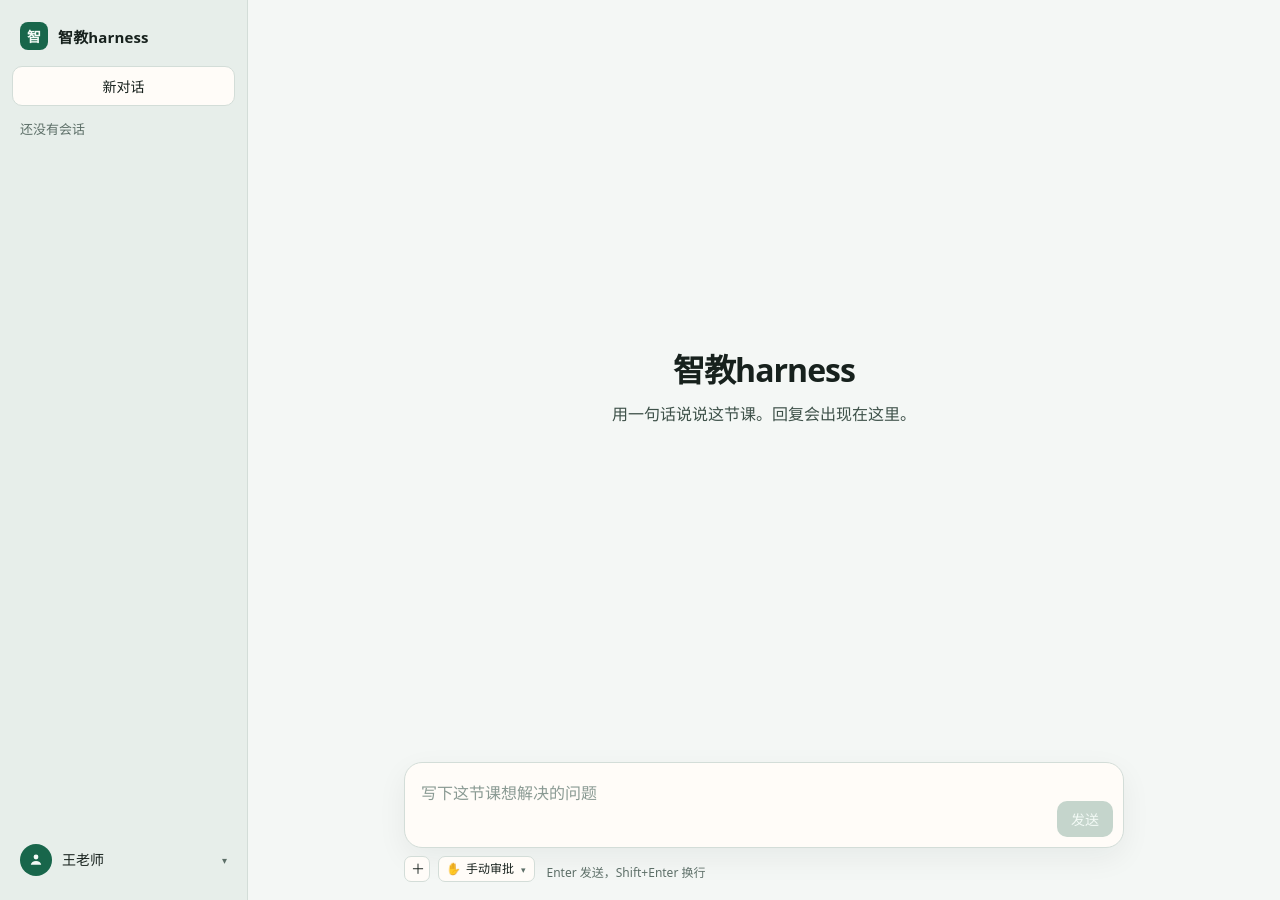
Scenario: 工作台 › 失败时保留已成功的回复，并给出可重试说明
Expected: the button "发送" is shown, x1=1057 y1=801 x2=1113 y2=837
Type "这节课怎么讲通分" into the text box named "消息". click: (735, 805)
box: x1=421 y1=773 x2=1049 y2=837
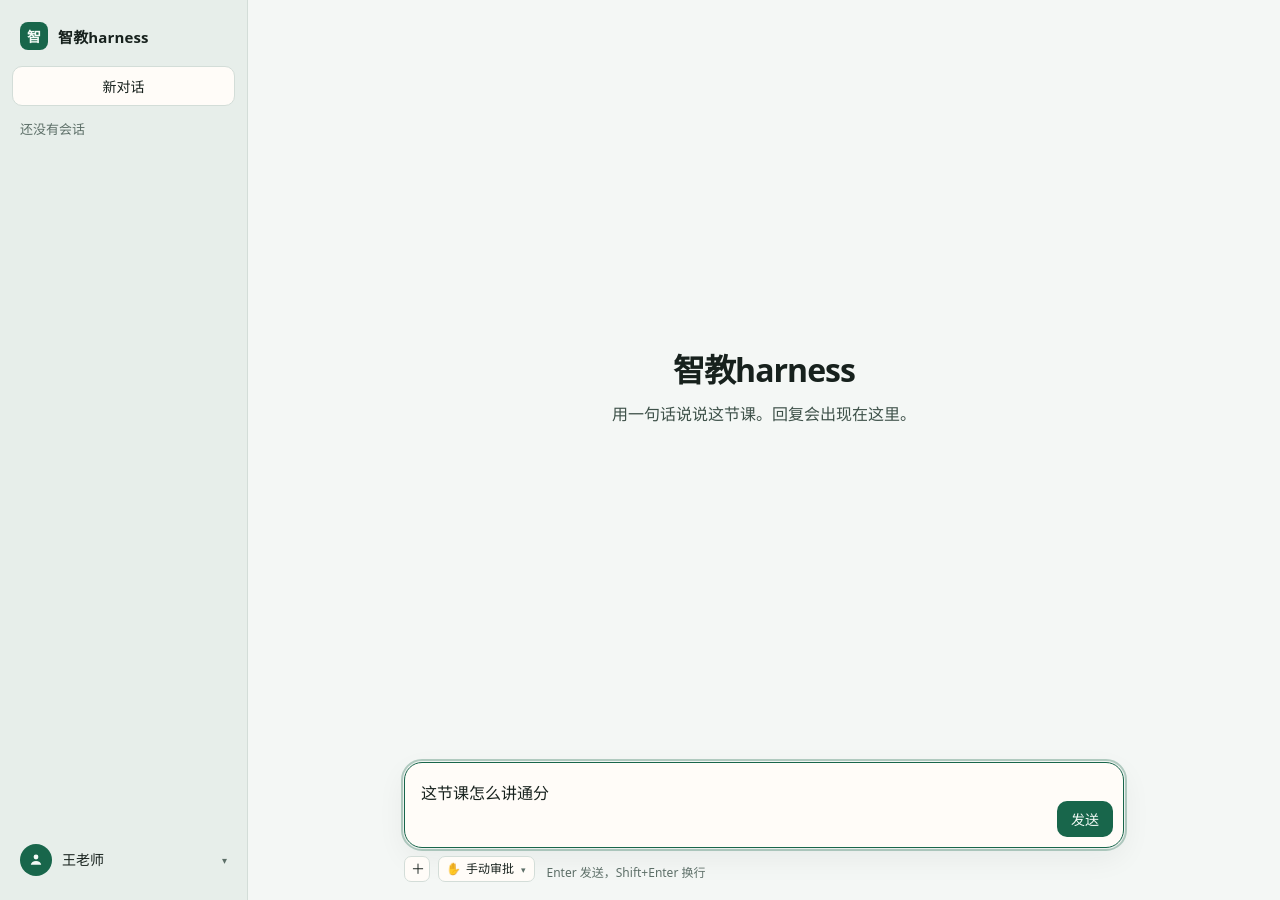
Click the button "发送". click: (1085, 819)
box: x1=1057 y1=801 x2=1113 y2=837
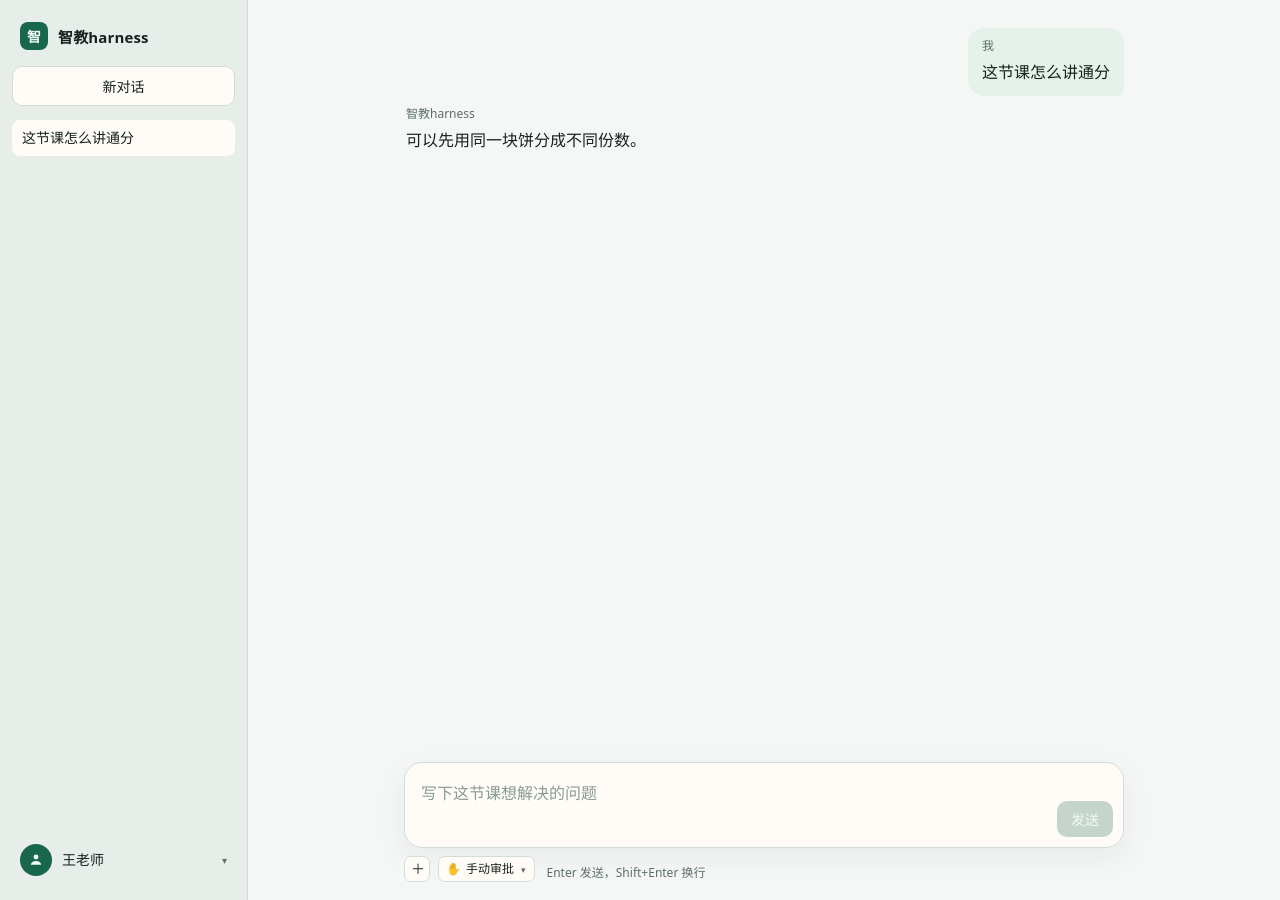
Now the text "可以先用同一块饼分成不同份数。" is shown, box x1=406 y1=127 x2=646 y2=154
Type "再具体一点" into the text box named "消息". click: (735, 805)
box: x1=421 y1=773 x2=1049 y2=837
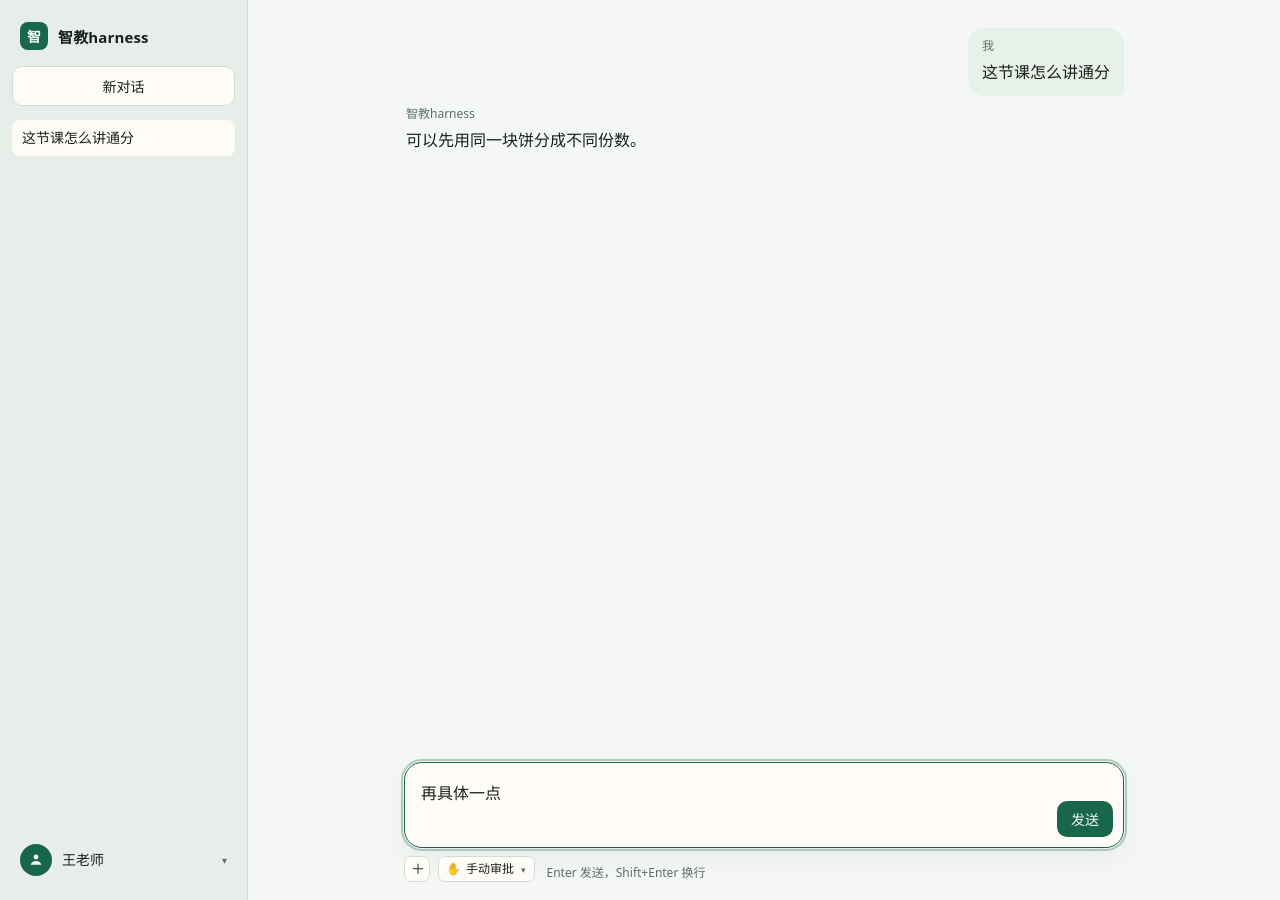
Click the button "发送". click: (1085, 819)
box: x1=1057 y1=801 x2=1113 y2=837
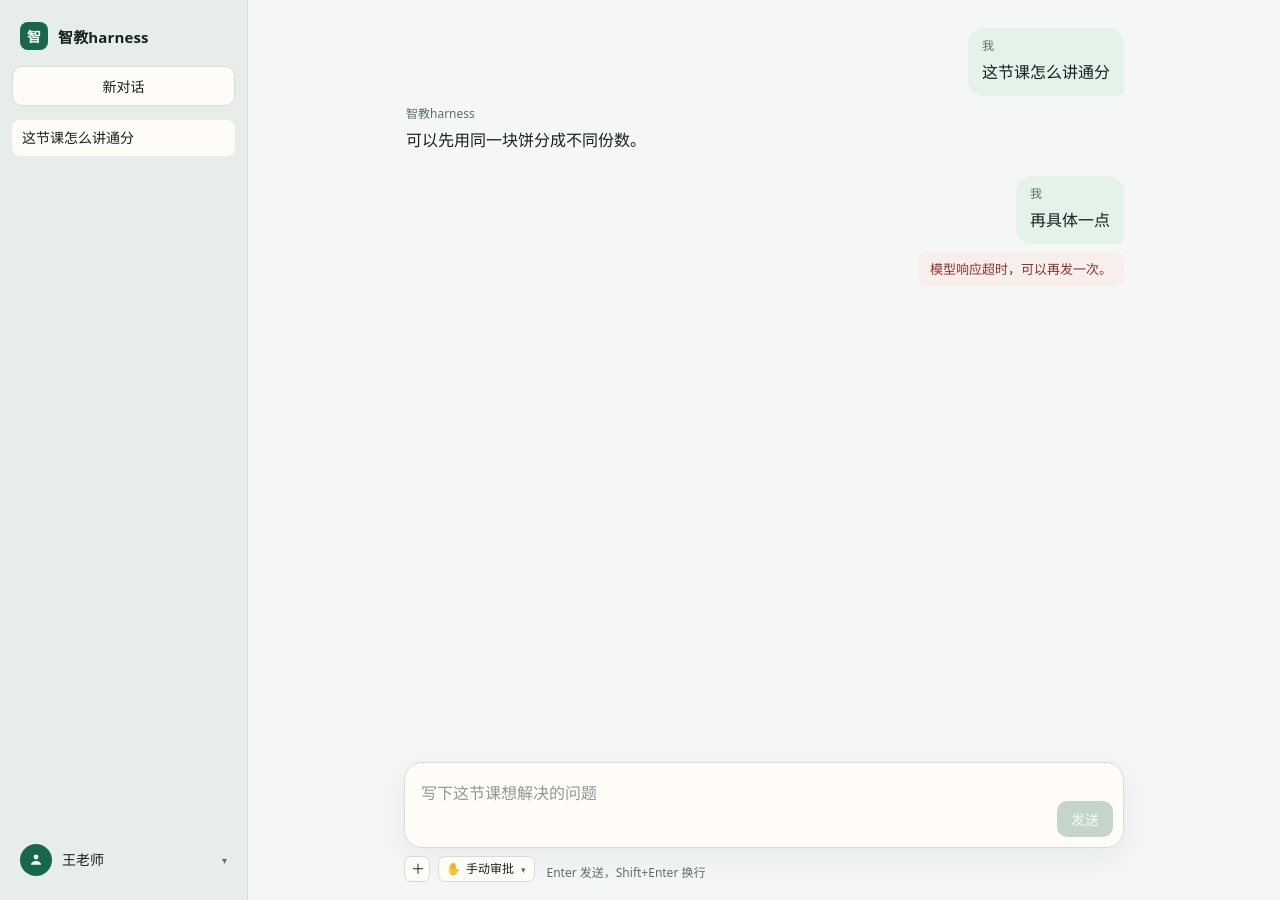
Now the text "可以先用同一块饼分成不同份数。" is shown, box x1=406 y1=127 x2=646 y2=154
Now the message reads "模型响应超时，可以再发一次。", box x1=930 y1=260 x2=1112 y2=278
Now the button "发送" is disabled, box x1=1057 y1=801 x2=1113 y2=837
